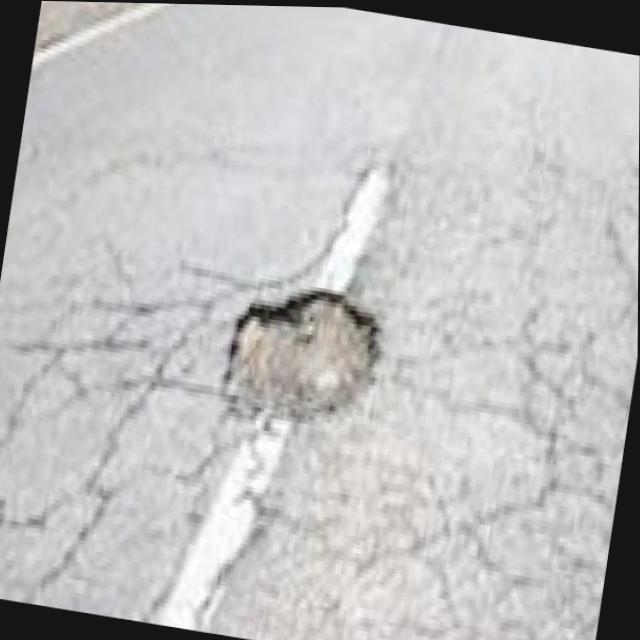Pothole: (225, 287, 380, 415)
